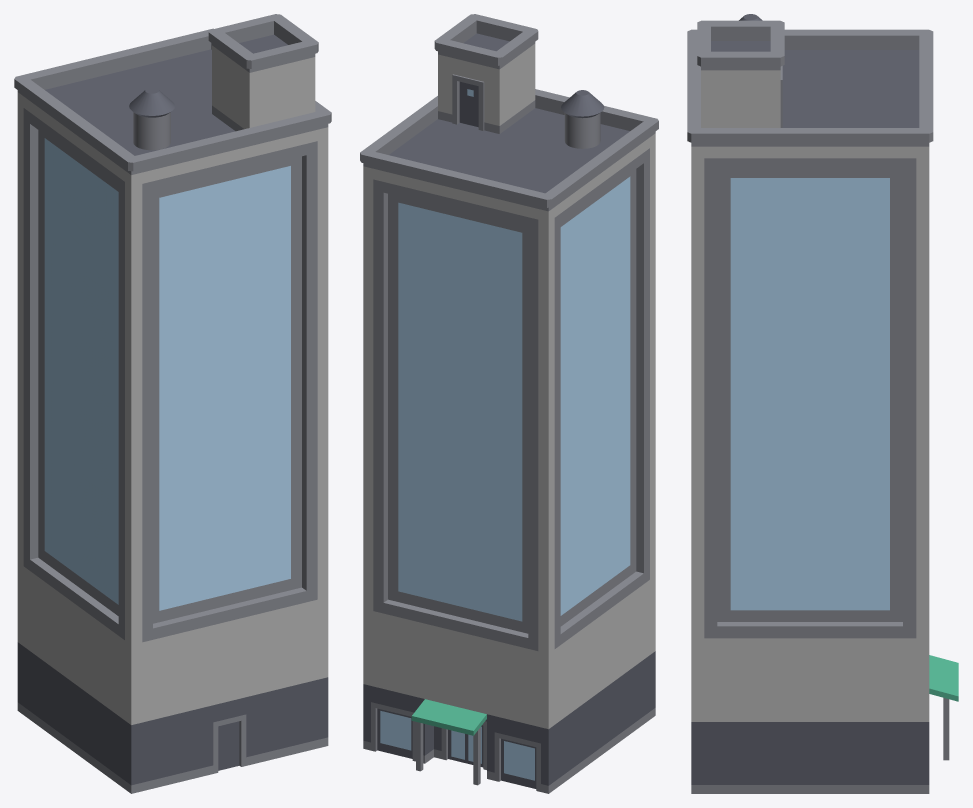
File: skyscraperC.dae
The picture shows the model from 3 angles, left to right: view 1: azimuth 30°, elevation 25°; view 2: azimuth 150°, elevation 25°; view 3: azimuth 270°, elevation 25°; orthographic projection. The views are drawn at different scales.
Visible parts, largest first — view 1: skyscraperC; view 2: skyscraperC; view 3: skyscraperC.
Boxes of the visible parts, x1,y1,x2,y2 form: skyscraperC: [14, 14, 331, 793]; skyscraperC: [360, 14, 658, 793]; skyscraperC: [687, 14, 958, 793].
Size of the model in its own units: 1.24 by 4.08 by 1.37.
